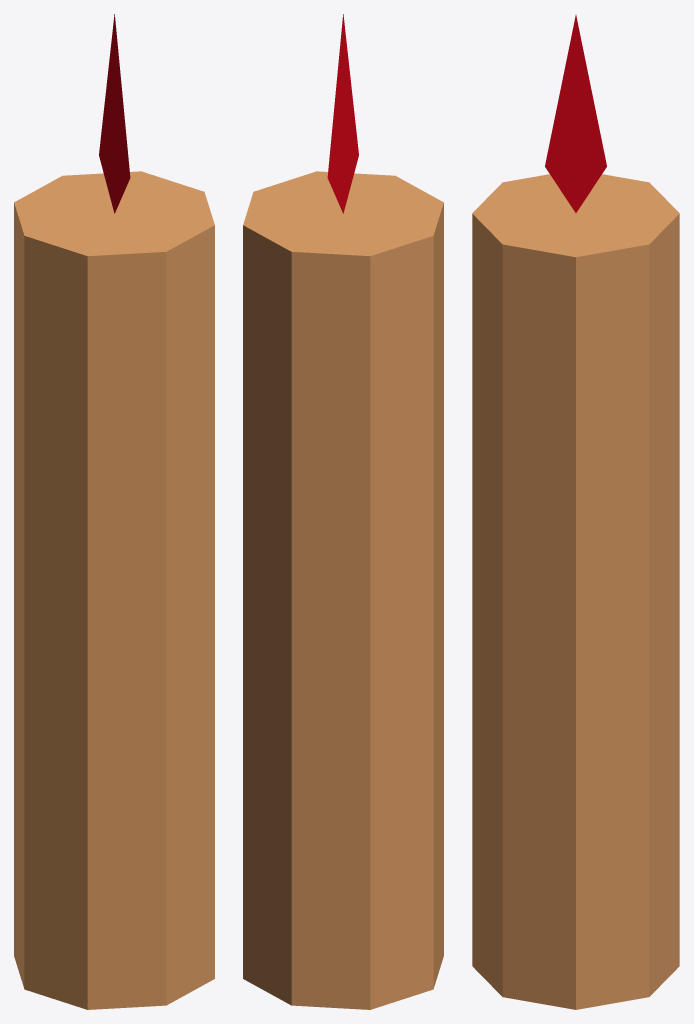
Rendered from candle.fbx.
3 renders of one model, left to right at view 1: azimuth 30°, elevation 25°; view 2: azimuth 150°, elevation 25°; view 3: azimuth 270°, elevation 25°, orthographic.
Visible parts, largest first — view 1: Cylinder; view 2: Cylinder; view 3: Cylinder.
Boxes of the visible parts, box(x1,y1,x2,y2) form: Cylinder: box(14, 14, 214, 1009); Cylinder: box(243, 14, 443, 1009); Cylinder: box(472, 15, 679, 1009).
Bounding box in the file's own units: 50 × 253 × 50.
